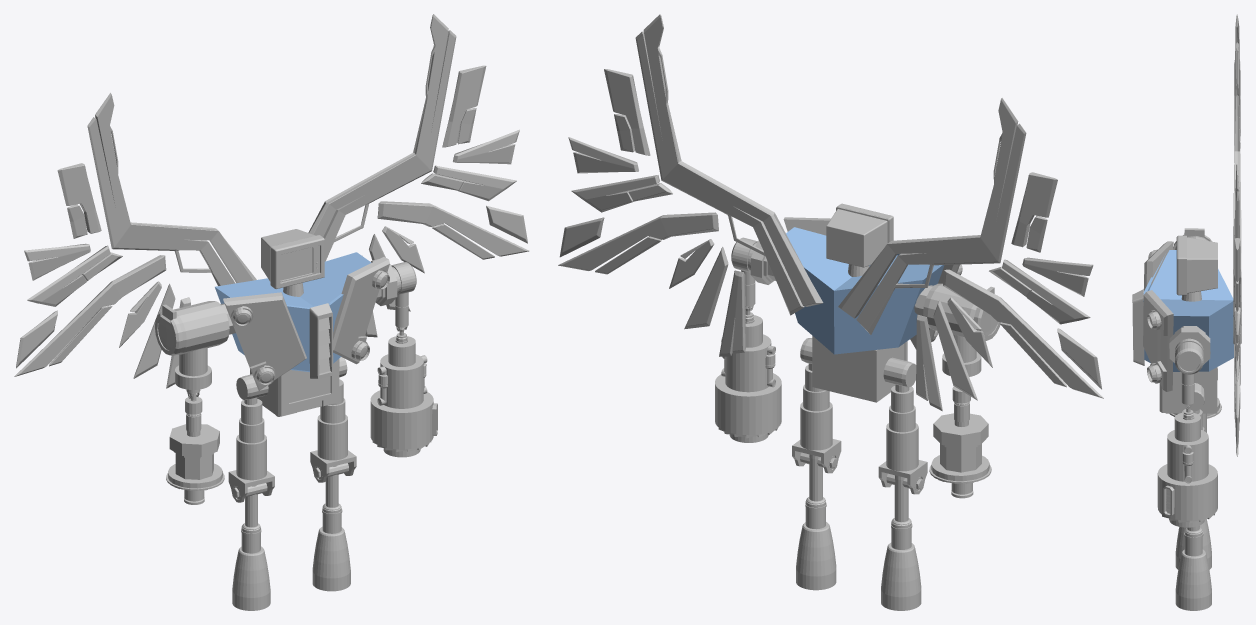
The model's file is robot_HP_parts.fbx.
The picture shows the model from 3 angles, left to right: view 1: azimuth 30°, elevation 25°; view 2: azimuth 150°, elevation 25°; view 3: azimuth 270°, elevation 25°; orthographic projection. The views are drawn at different scales.
Parts seen in each view (by area): view 1: head_and_wings, Group48672, Box001, Group33311, Group35954, Group50545, Group20653, Group693, Group39404, Group23568, Group35849, Group16704 (+9 smaller); view 2: head_and_wings, Box001, Group50517, Group35954, Group693, Group39404, Group23568, Group10836, Group35849, Group60536, Group20653, Group15913 (+4 smaller); view 3: head_and_wings, Box001, Group35954, Group33311, Group39404, Group35849, Group50517, Group18, Group16704, Group65491, Group3811, Group23568 (+11 smaller).
Boxes of the visible parts, left/top/right/bottom form: head_and_wings: left=14, top=14, right=529, bottom=388; Group48672: left=223, top=292, right=306, bottom=390; Box001: left=215, top=252, right=371, bottom=372; Group33311: left=333, top=257, right=389, bottom=364; Group35954: left=370, top=390, right=433, bottom=449; Group50545: left=275, top=359, right=339, bottom=416; Group20653: left=174, top=301, right=229, bottom=354; Group693: left=169, top=424, right=219, bottom=479; Group39404: left=312, top=526, right=350, bottom=591; Group23568: left=232, top=546, right=270, bottom=610; Group35849: left=380, top=354, right=423, bottom=408; Group16704: left=309, top=303, right=333, bottom=379; head_and_wings: left=558, top=14, right=1103, bottom=411; Box001: left=786, top=227, right=944, bottom=354; Group50517: left=812, top=336, right=904, bottom=402; Group35954: left=715, top=373, right=781, bottom=435; Group693: left=933, top=413, right=988, bottom=472; Group39404: left=796, top=522, right=836, bottom=590; Group23568: left=881, top=542, right=921, bottom=610; Group10836: left=800, top=402, right=912, bottom=549; Group35849: left=725, top=334, right=771, bottom=392; Group60536: left=886, top=423, right=918, bottom=471; Group20653: left=923, top=283, right=976, bottom=337; Group15913: left=878, top=460, right=927, bottom=494; head_and_wings: left=1176, top=14, right=1241, bottom=456; Box001: left=1149, top=250, right=1233, bottom=371; Group35954: left=1157, top=464, right=1217, bottom=520; Group33311: left=1143, top=290, right=1173, bottom=391; Group39404: left=1175, top=549, right=1211, bottom=610; Group35849: left=1167, top=430, right=1208, bottom=481; Group50517: left=1165, top=367, right=1217, bottom=413; Group18: left=1175, top=338, right=1203, bottom=374; Group16704: left=1132, top=289, right=1144, bottom=365; Group65491: left=1169, top=326, right=1210, bottom=364; Group3811: left=1174, top=412, right=1200, bottom=441; Group23568: left=1175, top=519, right=1211, bottom=569.
Bounding box in the file's own units: 11184 × 10835 × 2158.
